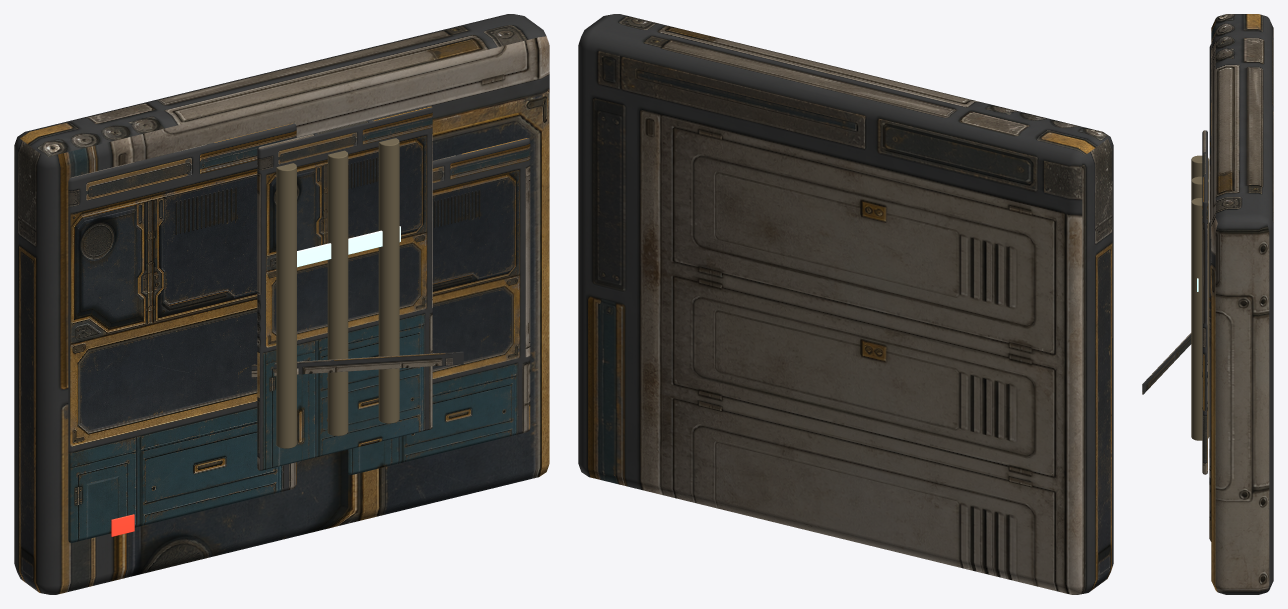
File: hp_room_residential_service_wall_rupture.glb
3 renders of one model, left to right at view 1: azimuth 30°, elevation 25°; view 2: azimuth 150°, elevation 25°; view 3: azimuth 270°, elevation 25°, orthographic. The views are drawn at different scales.
Visible parts, largest first — view 1: rupture_dark_backing, left_residential_skin_plate, exposed_service_cavity, right_residential_skin_plate, vertical_exposed_pipe_0, vertical_exposed_pipe_2, vertical_exposed_pipe_1, peeled_wall_diagonal_shadow, cold_cyan_crack_light; view 2: rupture_dark_backing; view 3: rupture_dark_backing, vertical_exposed_pipe_2, exposed_service_cavity, right_residential_skin_plate, peeled_wall_diagonal_shadow, left_residential_skin_plate, vertical_exposed_pipe_0, vertical_exposed_pipe_1.
Part boxes in pixels (x1,y1,x2,y2): rupture_dark_backing: (14,14,549,594); left_residential_skin_plate: (68,123,296,542); exposed_service_cavity: (257,105,432,470); right_residential_skin_plate: (347,138,530,474); vertical_exposed_pipe_0: (276,163,296,448); vertical_exposed_pipe_2: (378,138,399,423); vertical_exposed_pipe_1: (327,150,348,436); peeled_wall_diagonal_shadow: (251,351,463,377); cold_cyan_crack_light: (297,226,400,267); rupture_dark_backing: (578,14,1113,594); rupture_dark_backing: (1211,14,1273,594); vertical_exposed_pipe_2: (1191,198,1209,440); exposed_service_cavity: (1202,130,1207,474); right_residential_skin_plate: (1209,220,1211,541); peeled_wall_diagonal_shadow: (1142,333,1191,394); left_residential_skin_plate: (1209,44,1211,221); vertical_exposed_pipe_0: (1191,155,1209,180); vertical_exposed_pipe_1: (1191,176,1209,201).
Bounding box in the file's own units: 2.62 × 2.19 × 0.6841.
5 materials, 2 textured.
